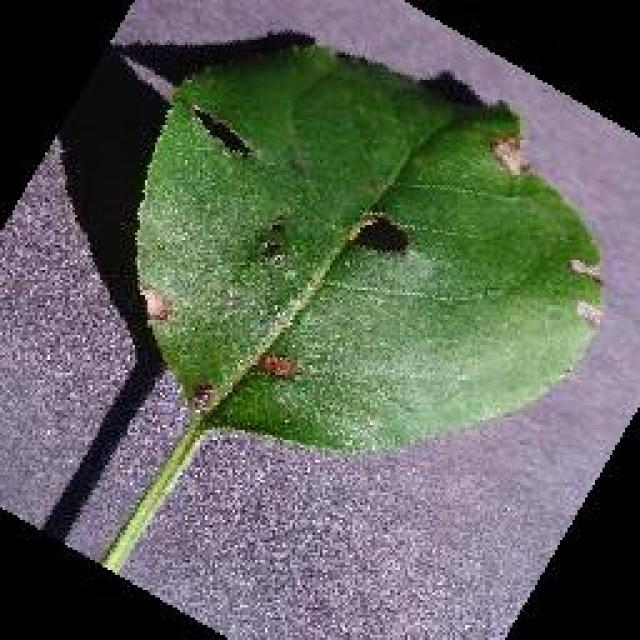Black_rot: (130, 37, 602, 455)
